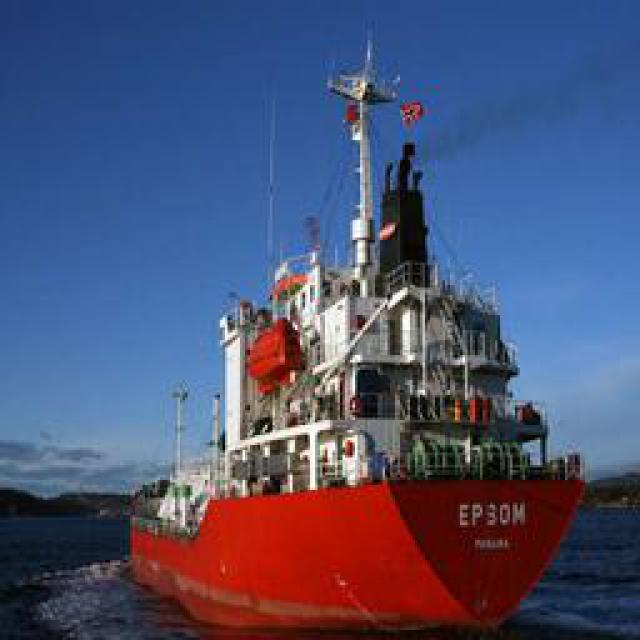Ship: (125, 29, 593, 632)
